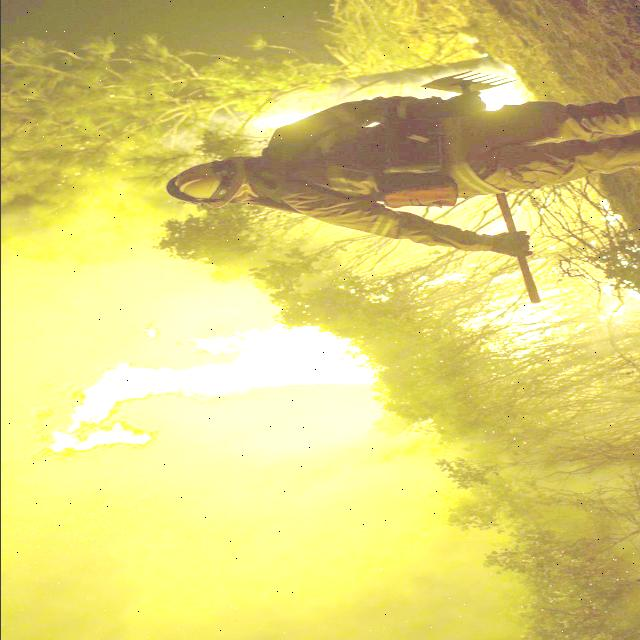api: (23, 316, 389, 466), (455, 274, 581, 364), (443, 76, 535, 118), (240, 107, 323, 135), (593, 278, 640, 327), (422, 269, 474, 290), (597, 195, 631, 227), (484, 222, 510, 240)
asap: (1, 160, 209, 640), (116, 397, 523, 640)
